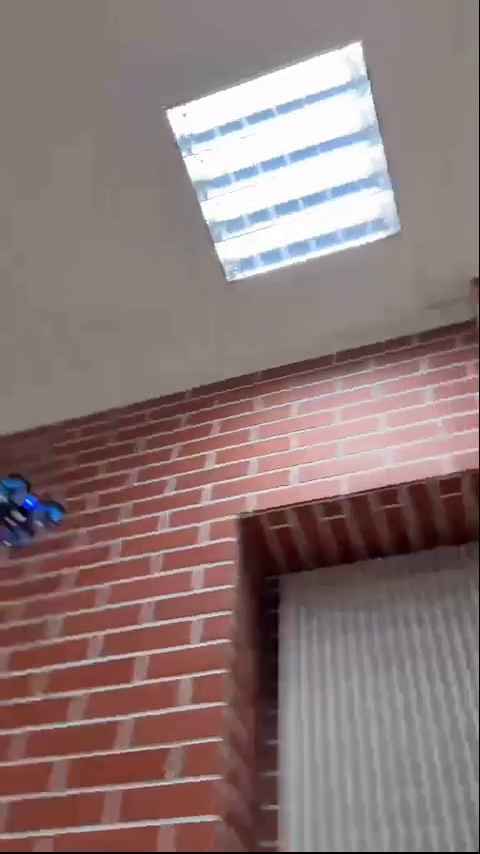drone: (0, 464, 63, 557)
